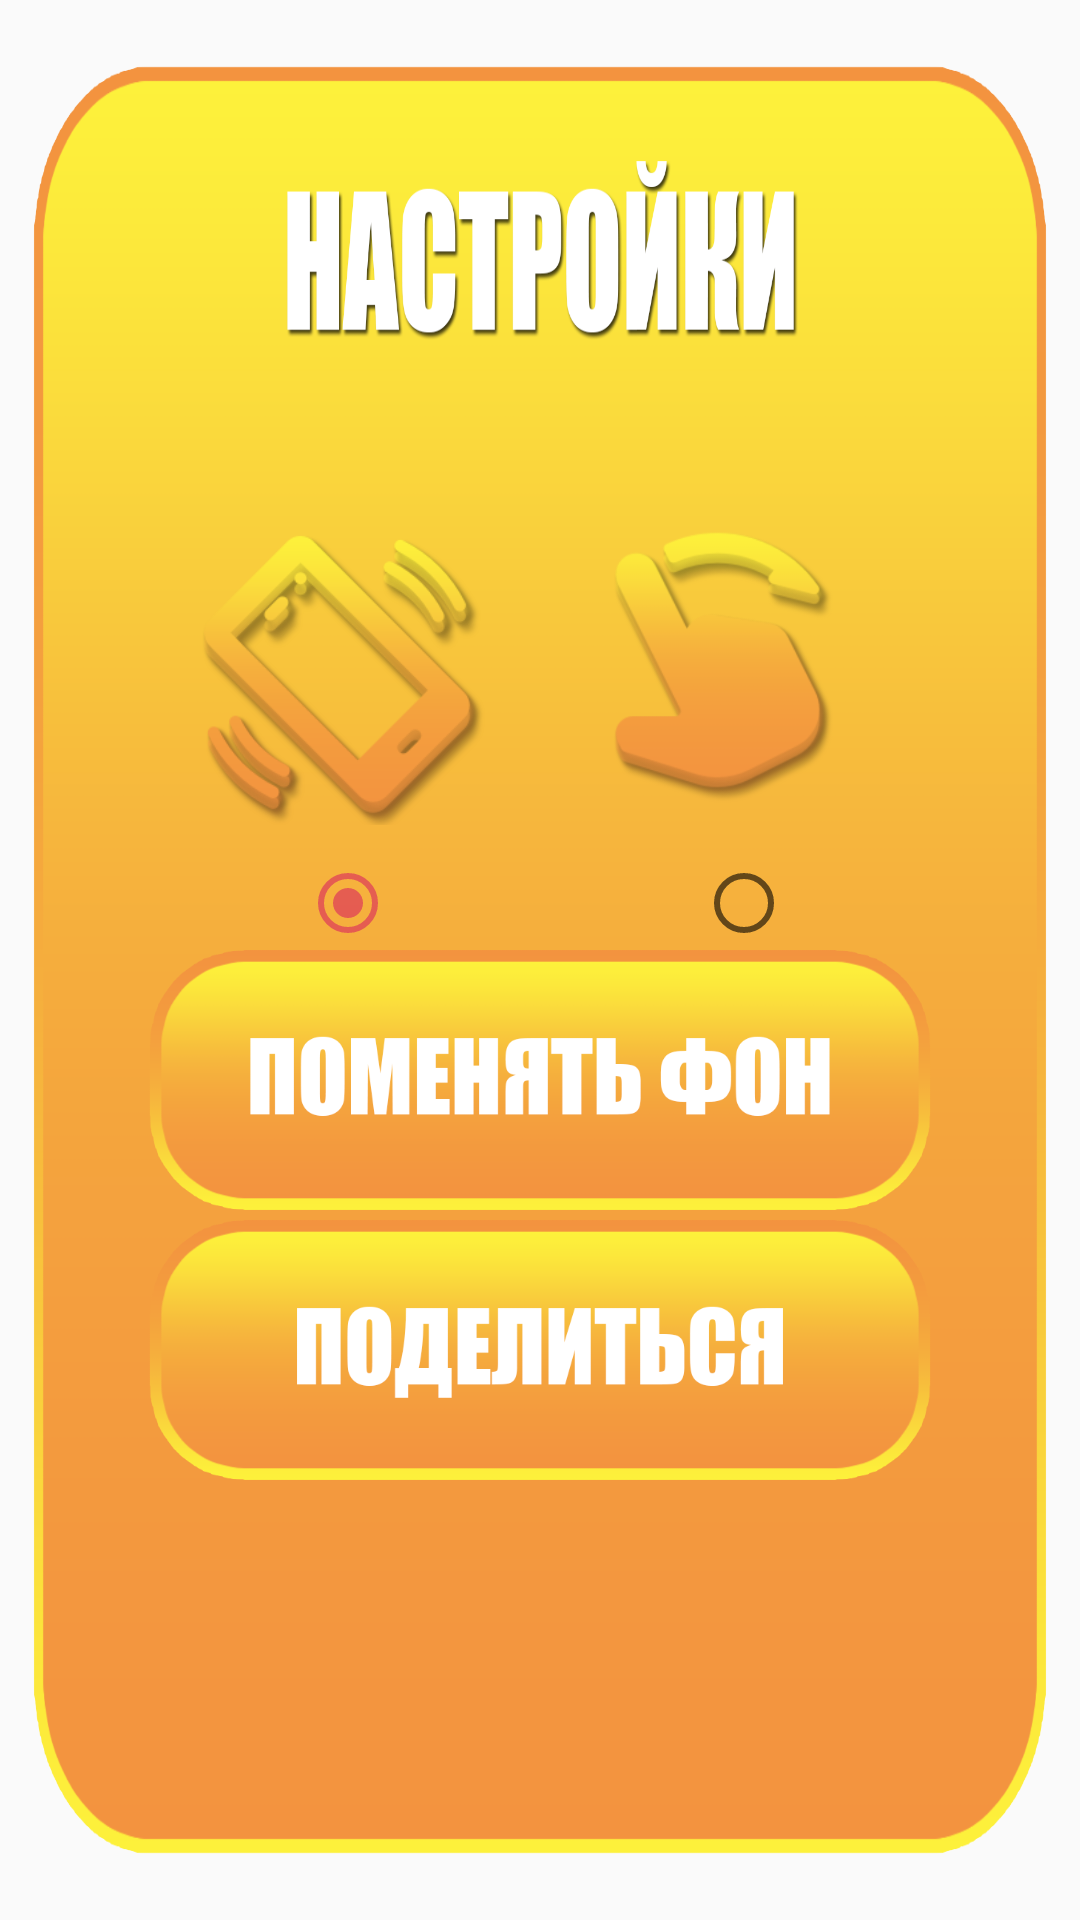

Locate icon controls on the screen. Image size 1080 x 1920, boxes as (x1, y1, x2, y2).
shake: (180, 524, 494, 825)
